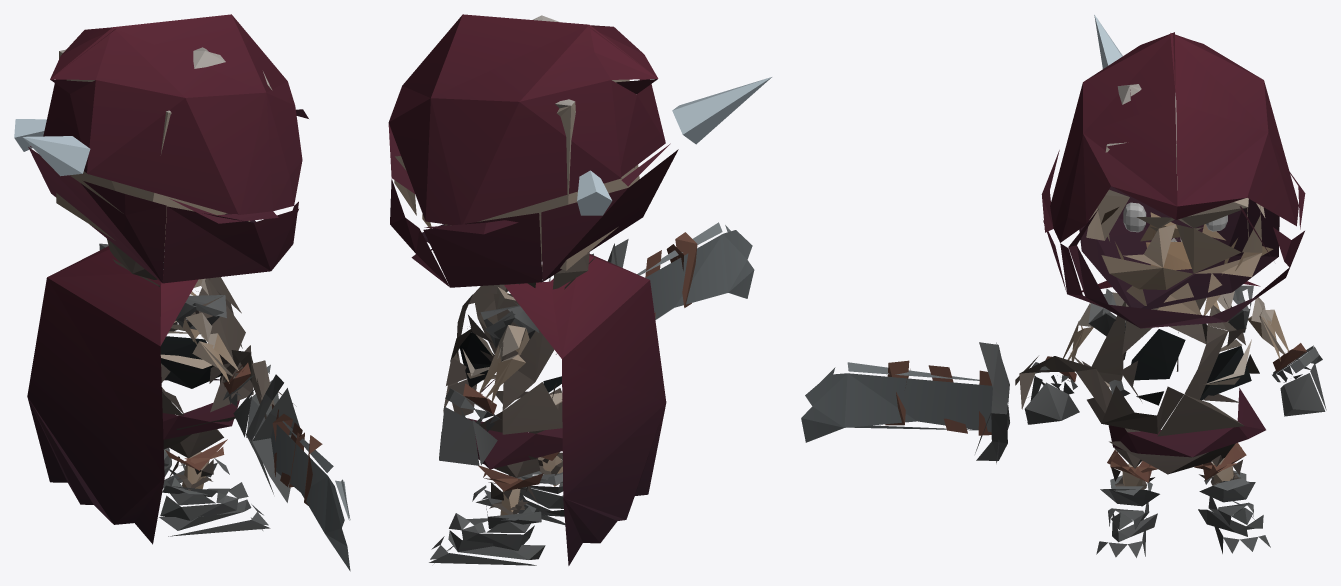
File: grunt_4.glb
3 views of the same model, side by side, from view 1: azimuth 30°, elevation 25°; view 2: azimuth 150°, elevation 25°; view 3: azimuth 270°, elevation 25° (orthographic). The views are drawn at different scales.
Parts seen in each view (by area): view 1: grunt_4; view 2: grunt_4; view 3: grunt_4.
Boxes of the visible parts, bbox=[...] form: grunt_4: bbox=[14, 14, 350, 571]; grunt_4: bbox=[388, 14, 771, 565]; grunt_4: bbox=[801, 14, 1326, 557].
Bounding box in the file's own units: 1.36 × 2.15 × 2.11.
